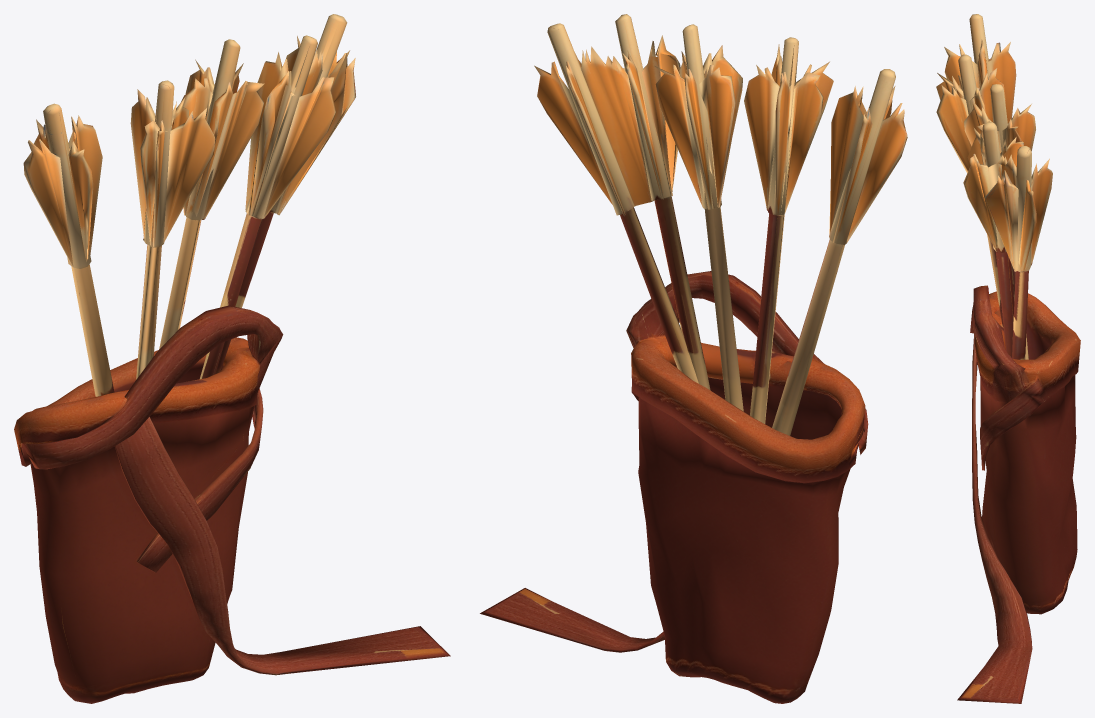
Rendered from hide-quiver_refine.glb.
The picture shows the model from 3 angles, left to right: view 1: azimuth 30°, elevation 25°; view 2: azimuth 150°, elevation 25°; view 3: azimuth 270°, elevation 25°; orthographic projection. The views are drawn at different scales.
Size of the model in its own units: 0.6416 by 0.9507 by 0.231.
Materials: 1 (1 with a texture image).
